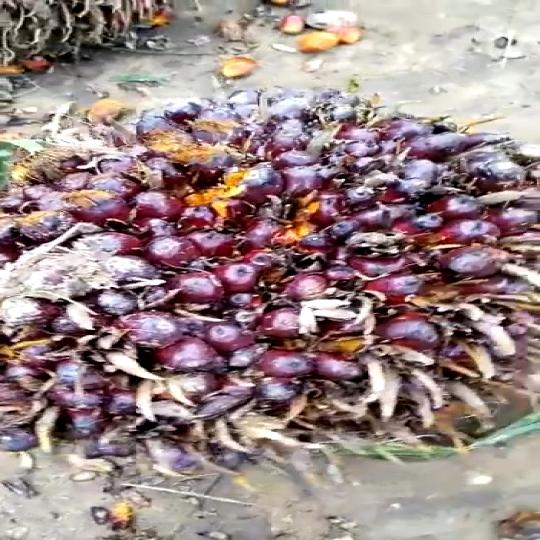masak: (0, 95, 540, 474)
